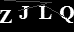J: (18, 5, 30, 20)
L: (37, 5, 52, 20)
Q: (58, 5, 74, 23)
Z: (1, 9, 12, 24)
